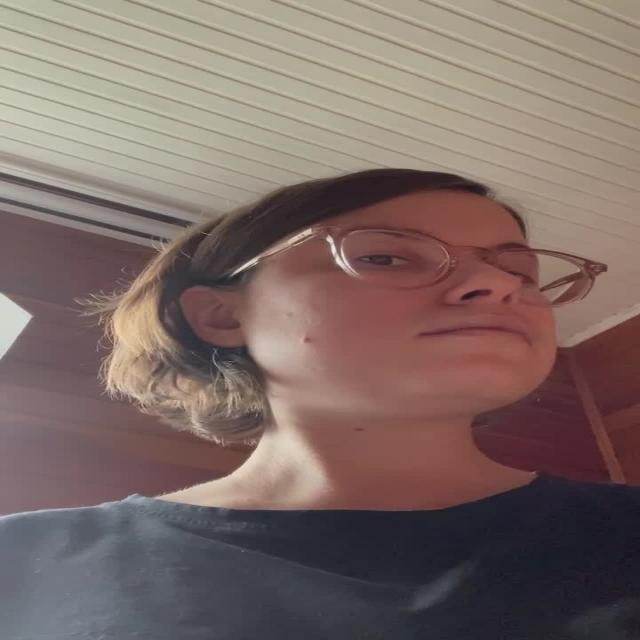earlobe: (204, 326, 247, 348)
eye: (354, 251, 422, 268), (506, 268, 538, 286)
nose: (470, 300, 512, 316)
wholeear: (176, 285, 246, 349)
